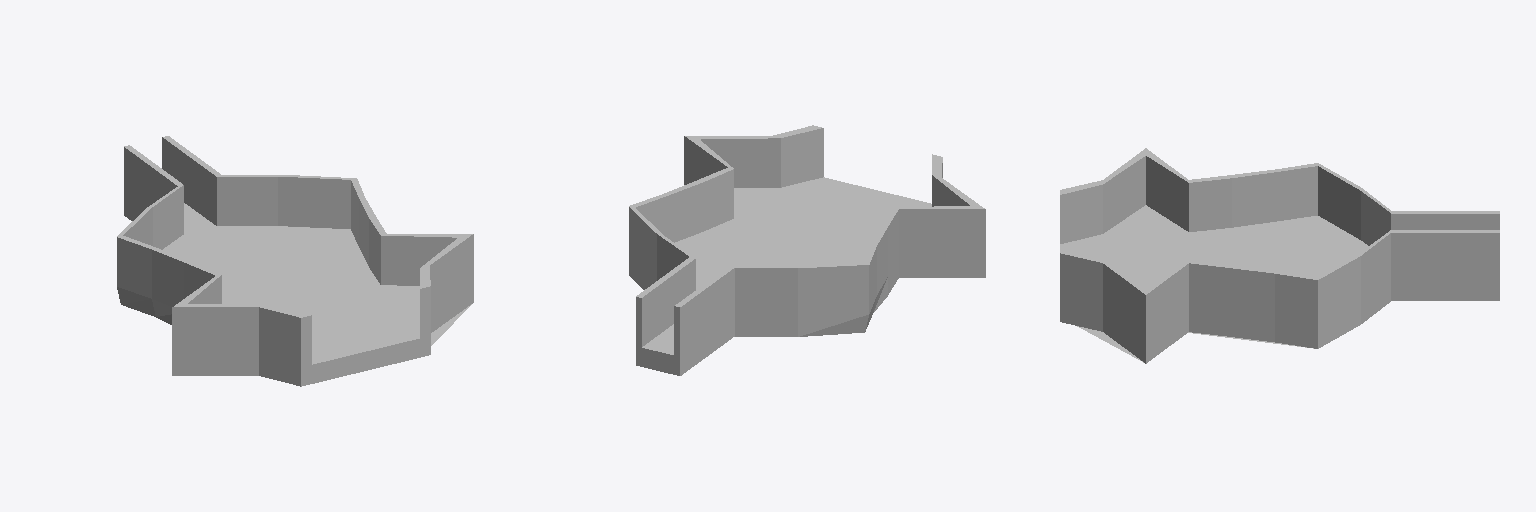
File: room2a.obj
3 views of the same model, side by side, from view 1: azimuth 30°, elevation 25°; view 2: azimuth 150°, elevation 25°; view 3: azimuth 270°, elevation 25° (orthographic).
Parts seen in each view (by area): view 1: pCube1; view 2: pCube1; view 3: pCube1.
Part boxes in pixels (x1,y1,x2,y2): pCube1: (117,136,473,386); pCube1: (629,125,985,375); pCube1: (1060,148,1499,363).
Size of the model in its own units: 18.96 by 4.14 by 23.98.